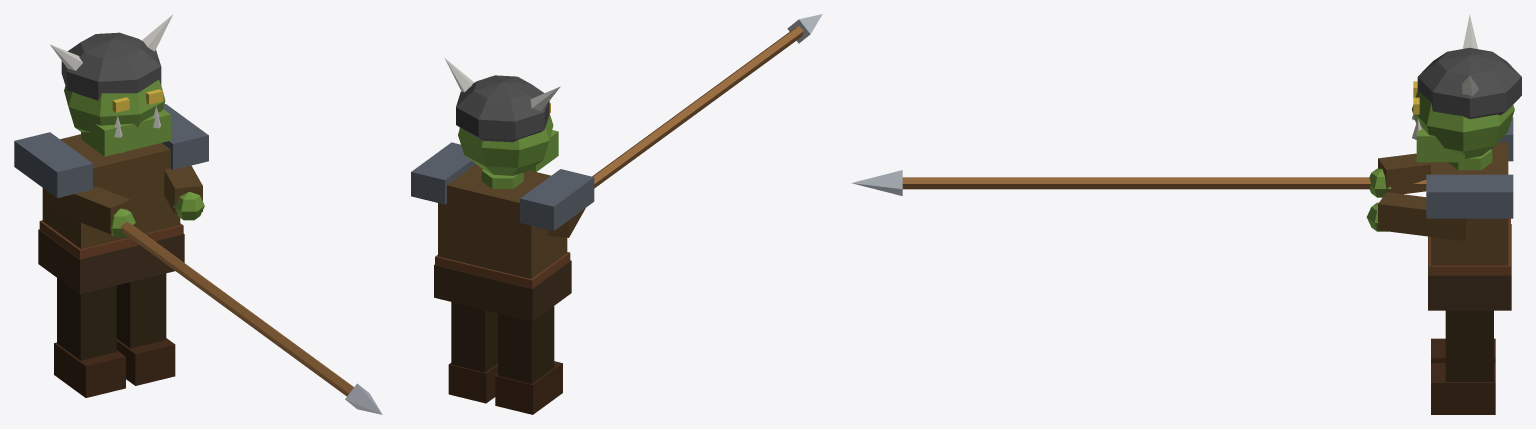
Rendered from e_spearman.fbx.
The picture shows the model from 3 angles, left to right: view 1: azimuth 30°, elevation 25°; view 2: azimuth 150°, elevation 25°; view 3: azimuth 270°, elevation 25°; orthographic projection. The views are drawn at different scales.
Parts seen in each view (by area): view 1: e_spearman_Body, e_spearman_LegR, e_spearman_LegL; view 2: e_spearman_Body, e_spearman_LegR, e_spearman_LegL; view 3: e_spearman_Body, e_spearman_LegL.
Boxes of the visible parts, left/top/right/bottom form: e_spearman_Body: left=14, top=14, right=382, bottom=414; e_spearman_LegR: left=54, top=278, right=125, bottom=397; e_spearman_LegL: left=116, top=273, right=175, bottom=385; e_spearman_Body: left=411, top=14, right=822, bottom=321; e_spearman_LegR: left=495, top=306, right=562, bottom=414; e_spearman_LegL: left=448, top=302, right=497, bottom=403; e_spearman_Body: left=851, top=14, right=1521, bottom=310; e_spearman_LegL: left=1431, top=310, right=1495, bottom=414.
Bounding box in the file's own units: 0.55 × 1.19 × 2.08.
